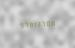eight: (27, 20, 31, 28), (52, 18, 56, 26)
nine: (17, 21, 21, 29)
one: (32, 20, 36, 28)
seven: (42, 19, 46, 27), (22, 21, 26, 28)
three: (37, 20, 41, 27)
zero: (47, 19, 51, 27)
